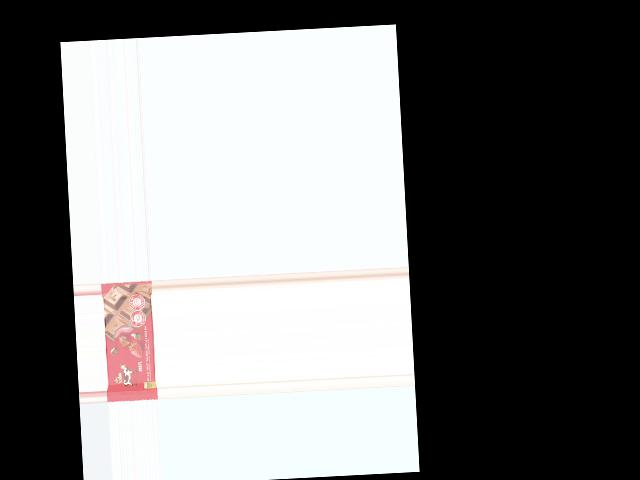chocolate: (101, 280, 158, 403)
